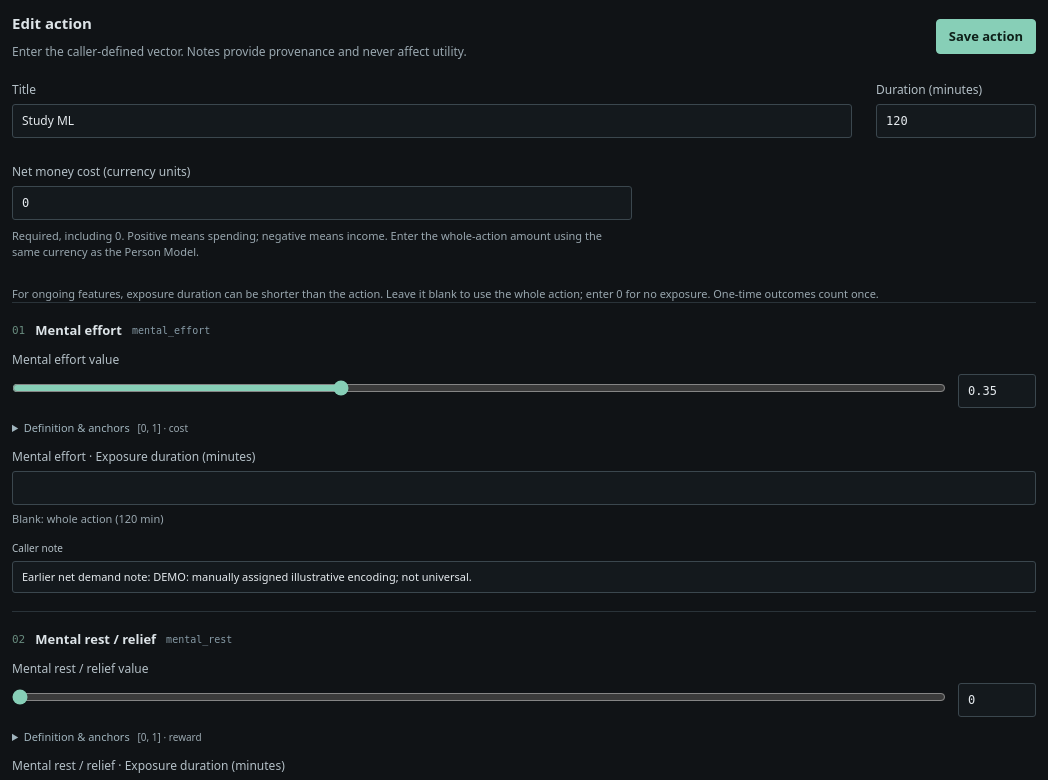
Test: persistence workflows › keeps failed API mutations visible without claiming a saved action
Click the button "Save action". click: (986, 36)
box: [936,18,1036,54]
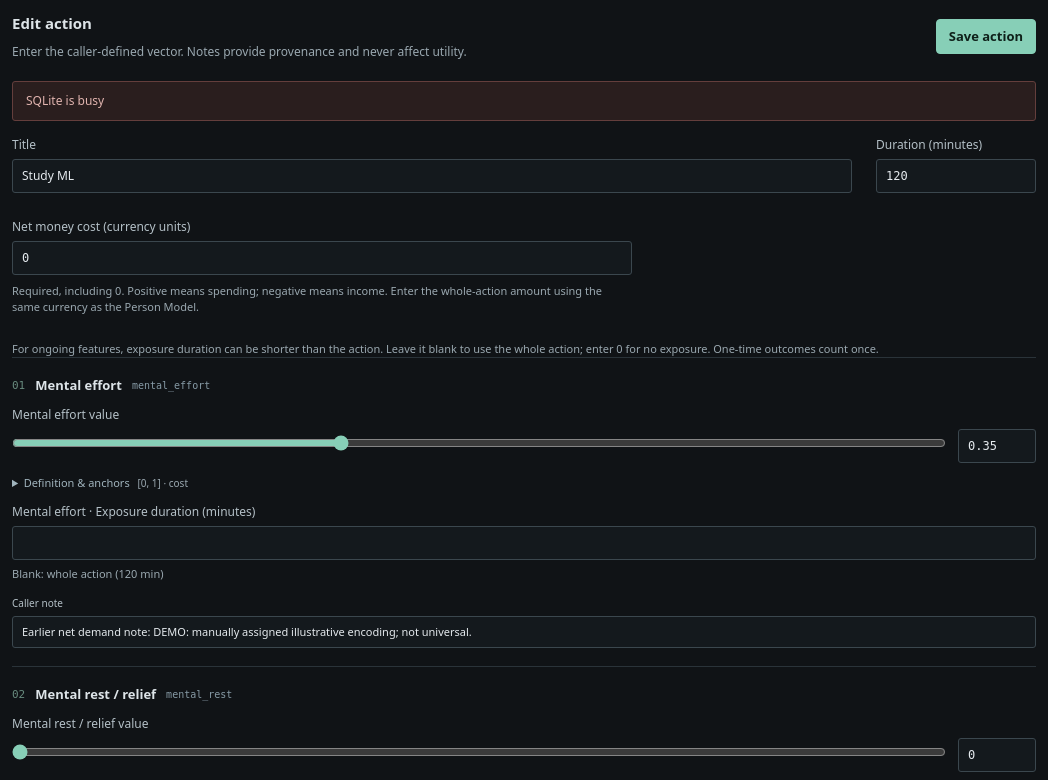
Now the message reads "SQLite is busy", box [26,92,104,108]
